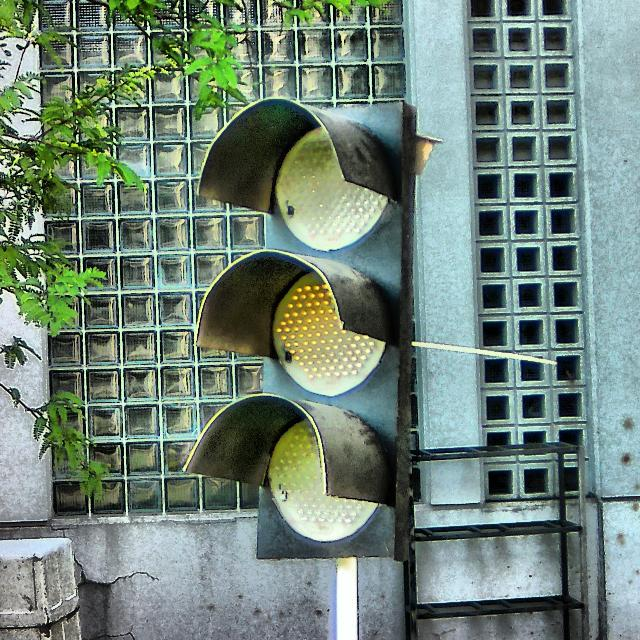yellow: (194, 103, 414, 563)
